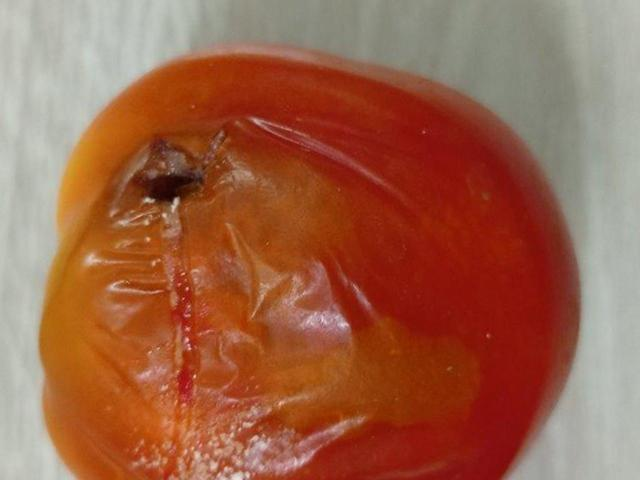defect: (35, 41, 585, 480)
